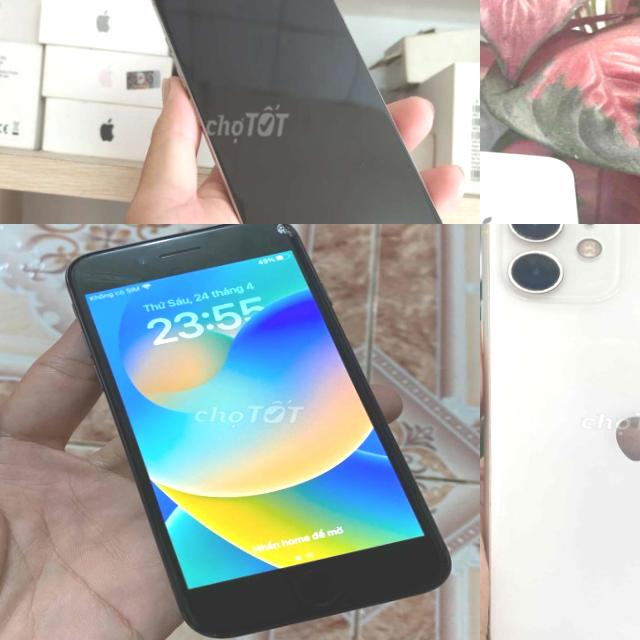gen_11: (480, 224, 640, 640)
gen_15: (129, 0, 463, 224)
gen_7_8: (13, 224, 480, 640)
gen_x_xs: (480, 145, 623, 224)
physical_damage: (248, 224, 304, 246)
scratch: (68, 260, 154, 296)
